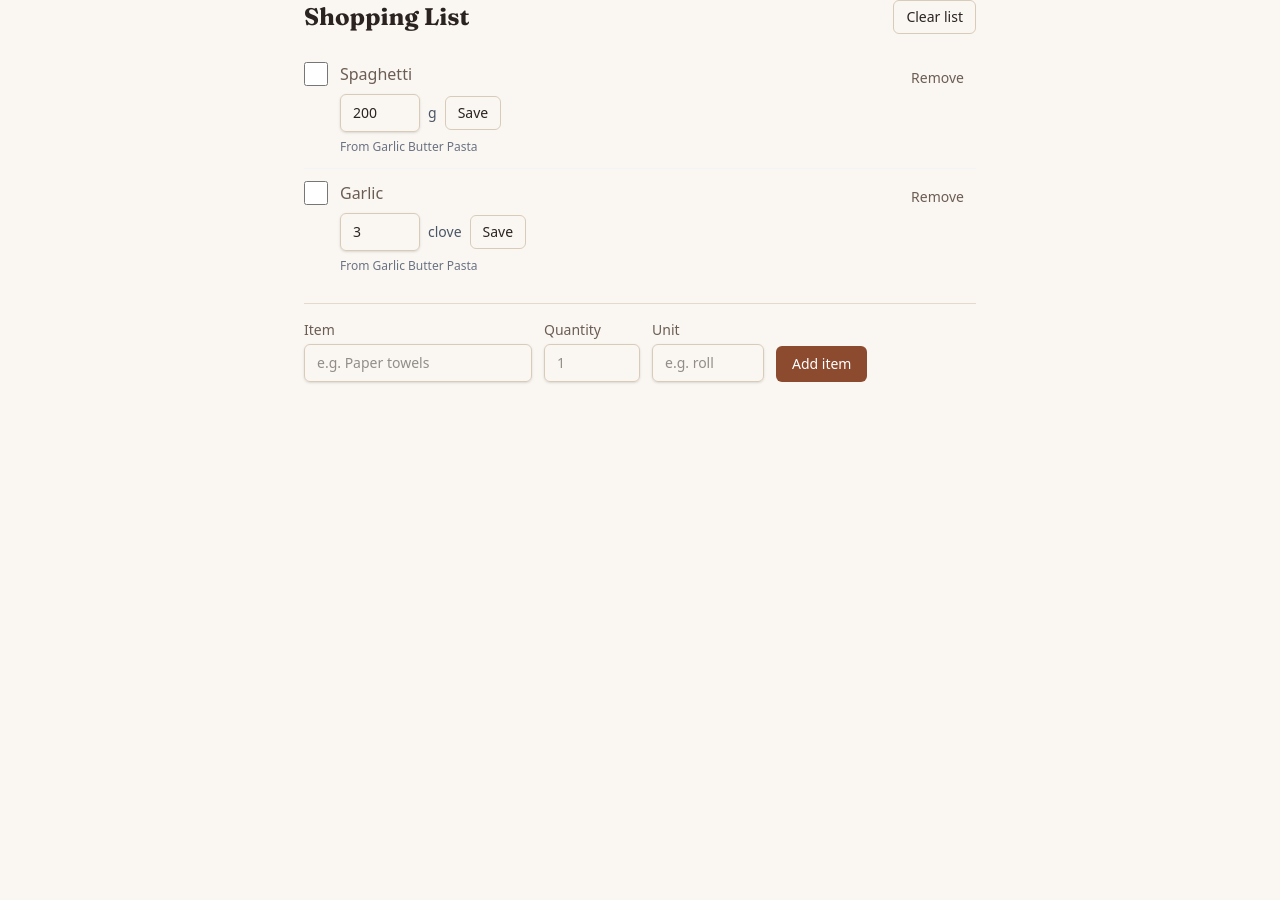
Test case: ShoppingList (against the typed mock) › clearing the list (AC4, AC5, AC6) › changes nothing when the confirmation is cancelled
The image size is (1280, 900).
Click the checkbox labelled "Spaghetti": (316, 74) [304, 62, 328, 86]
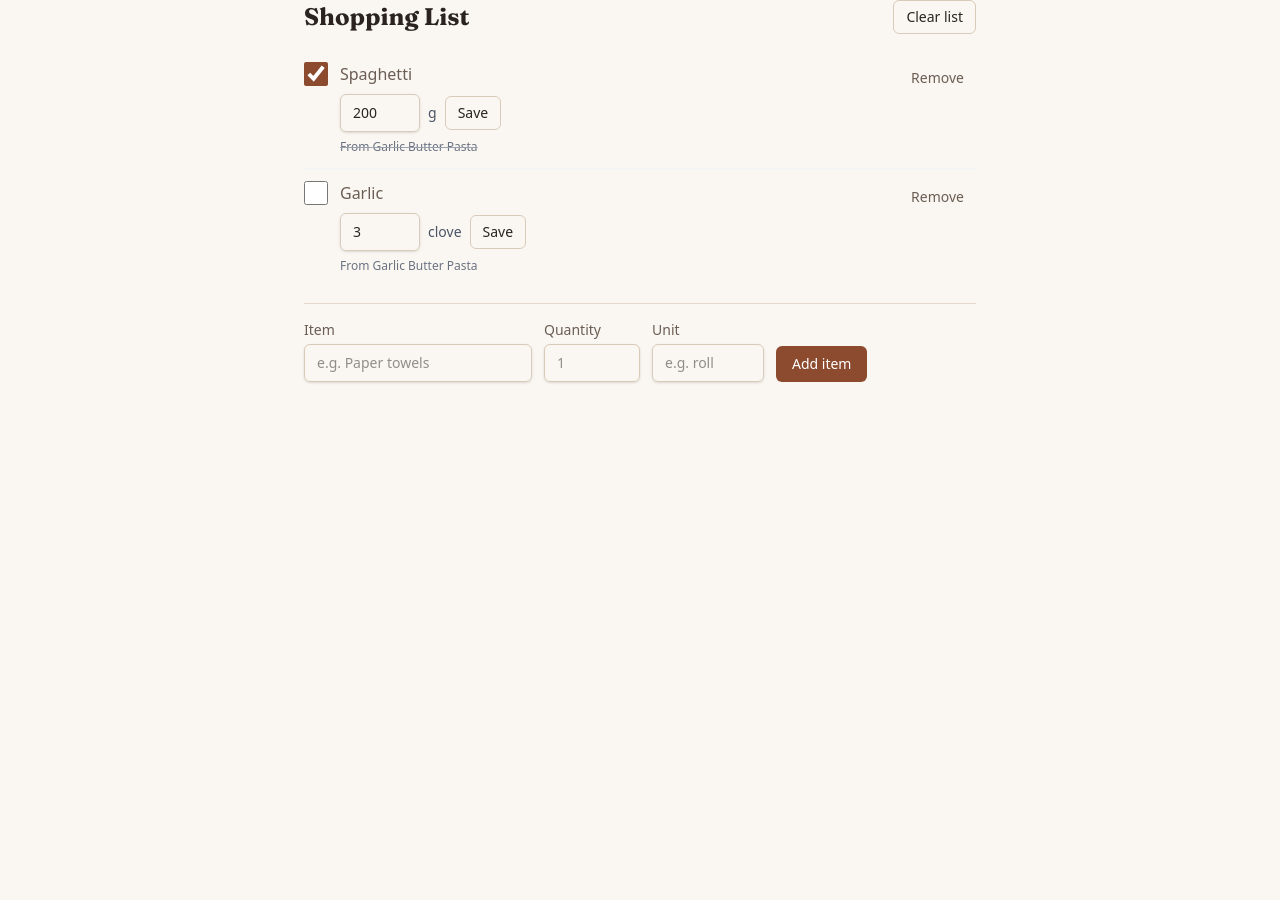
Check: the checkbox labelled "Spaghetti" is checked, box [304, 62, 328, 86]
Click the button "Clear list": (935, 17) [893, 0, 976, 34]
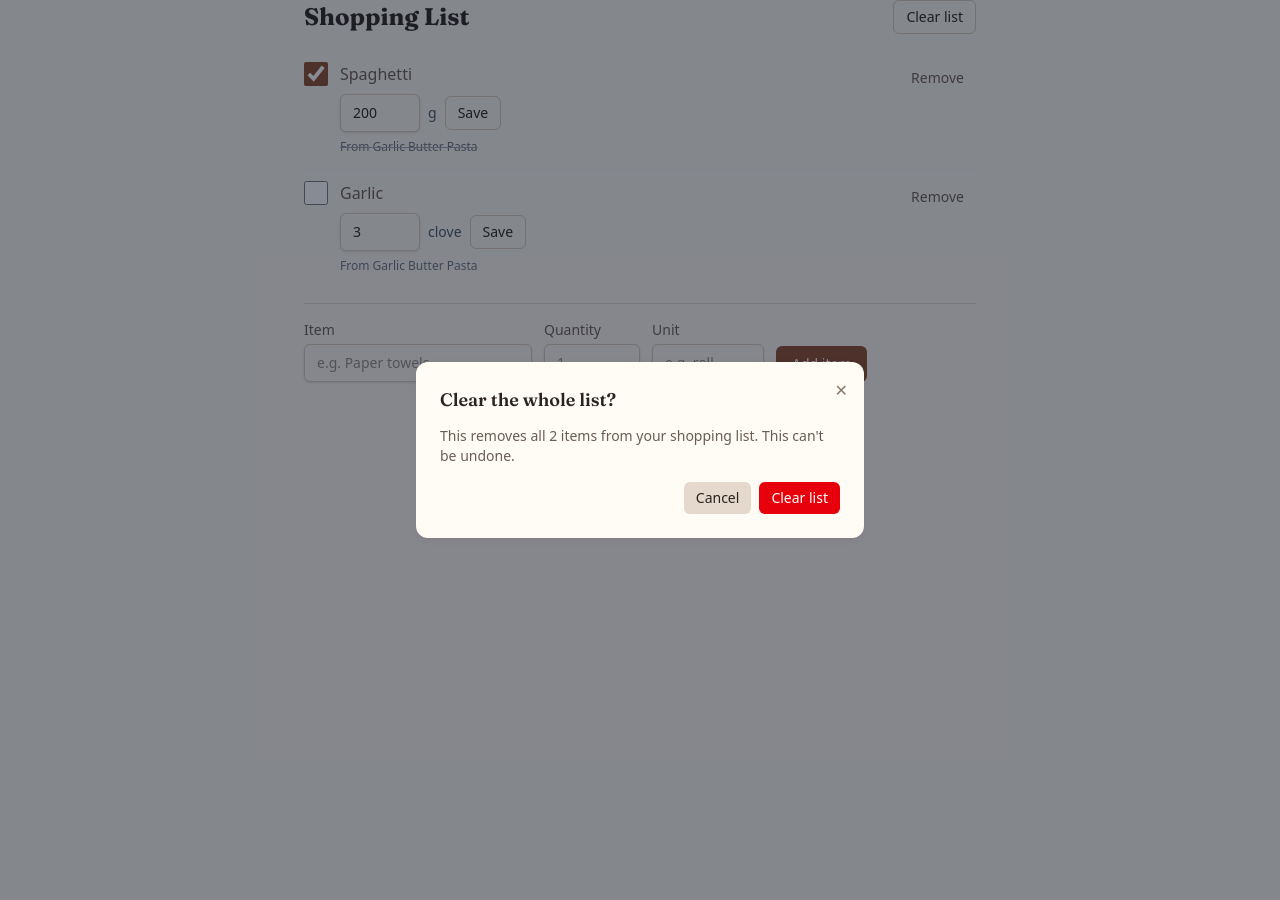
Click the button "Cancel": (718, 498) [684, 482, 751, 514]
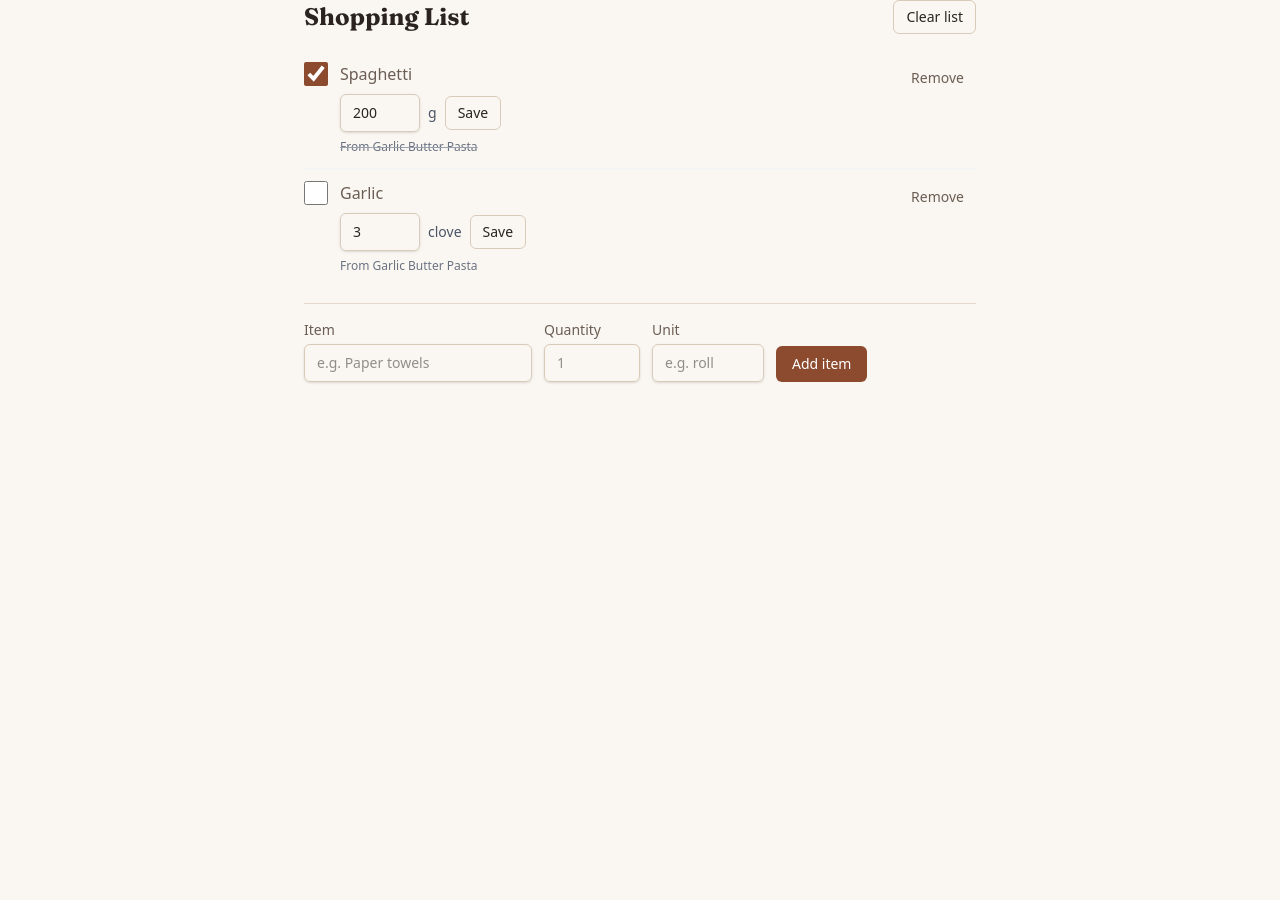
Check: the checkbox labelled "Garlic" is shown, box [304, 181, 328, 205]
Check: the checkbox labelled "Spaghetti" is checked, box [304, 62, 328, 86]
Check: the dialog is gone
